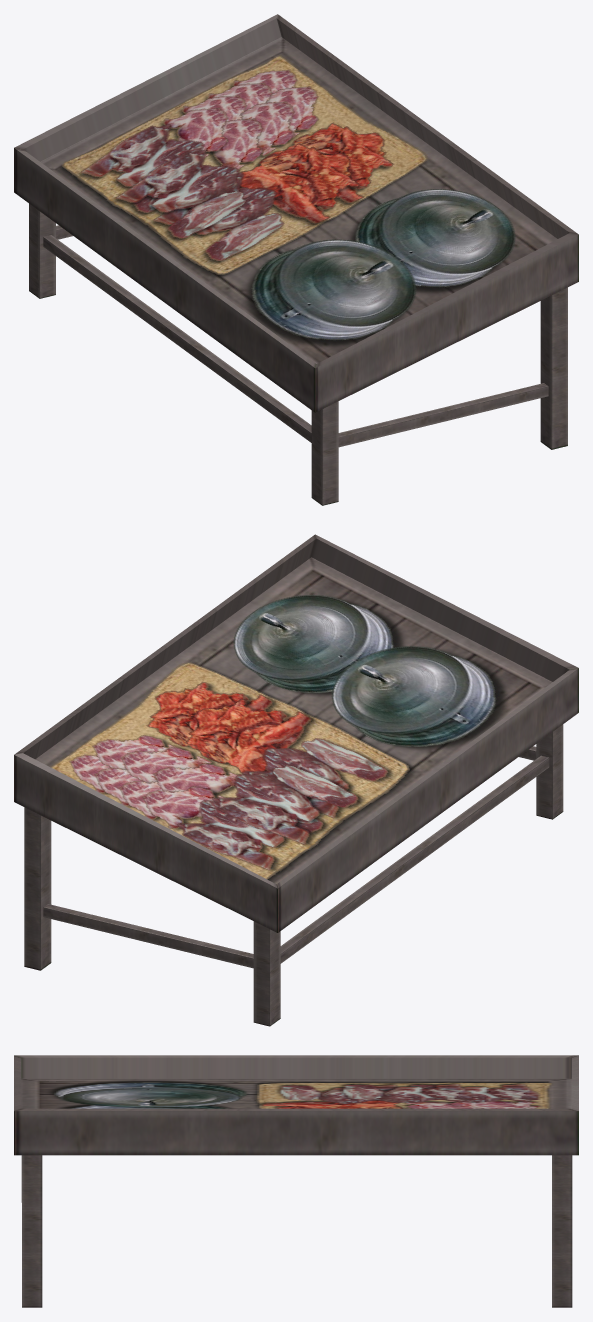
File: gogi_gage.FBX
3 renders of one model, top to bottom at view 1: azimuth 30°, elevation 25°; view 2: azimuth 150°, elevation 25°; view 3: azimuth 270°, elevation 25°, orthographic. The views are drawn at different scales.
Visible parts, largest first — view 1: polySurface25; view 2: polySurface25; view 3: polySurface25.
Part boxes in pixels (x1=…): polySurface25: x1=14, y1=14, x2=578, y2=505; polySurface25: x1=14, y1=534, x2=578, y2=1026; polySurface25: x1=14, y1=1055, x2=578, y2=1307.
Bounding box in the file's own units: 14.28 × 11.01 × 28.23.
